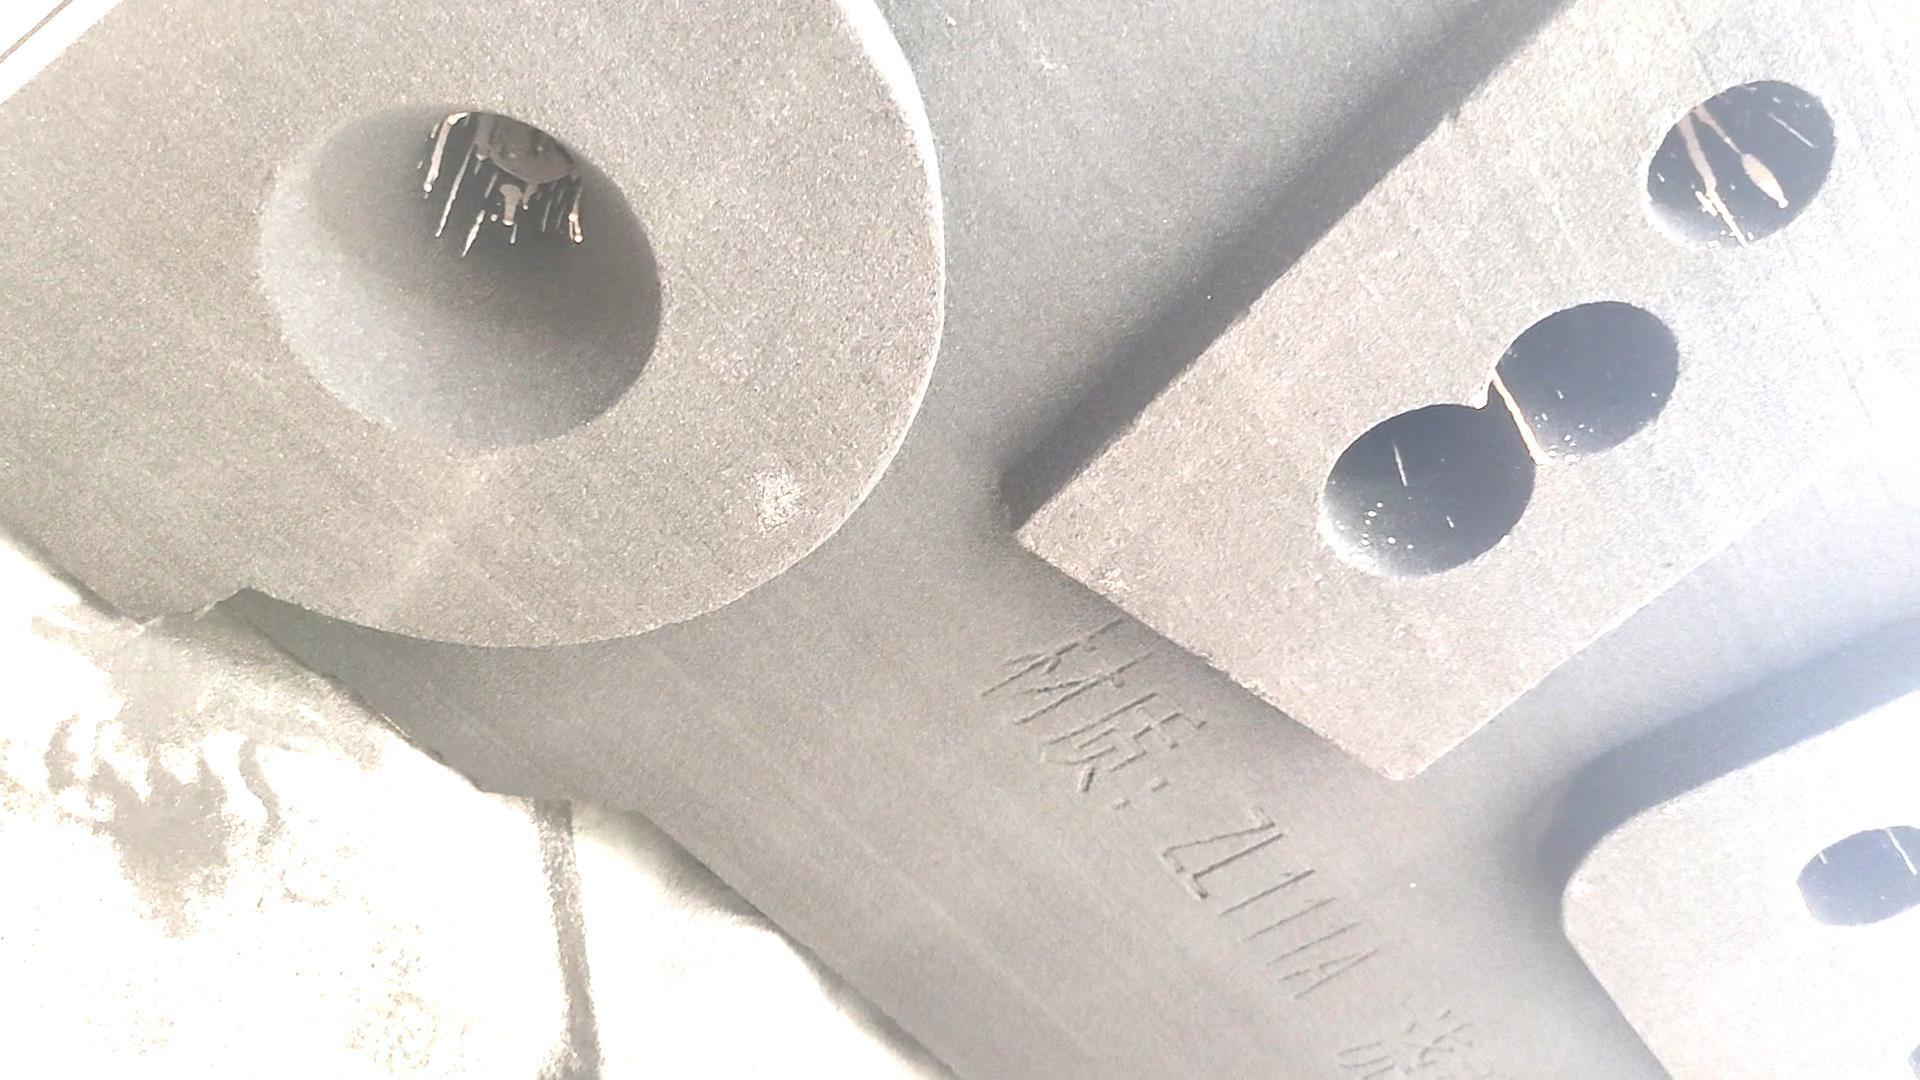pouring hole: (258, 102, 662, 450)
